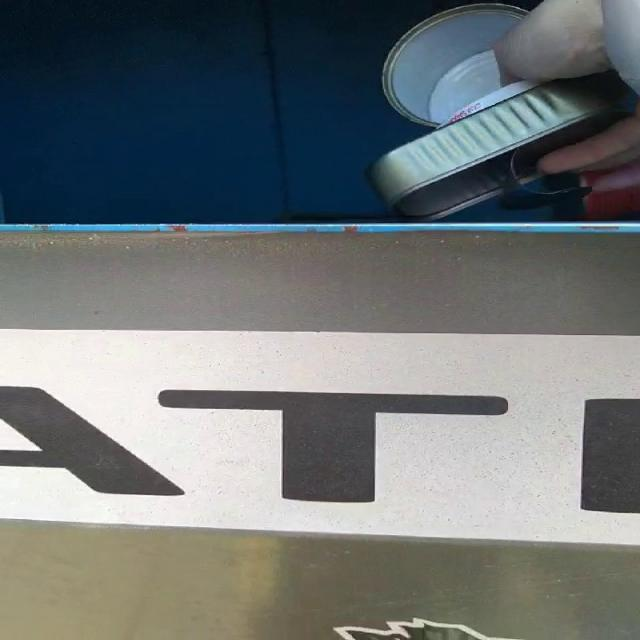bin: (1, 0, 639, 640)
metal: (369, 4, 640, 220)
